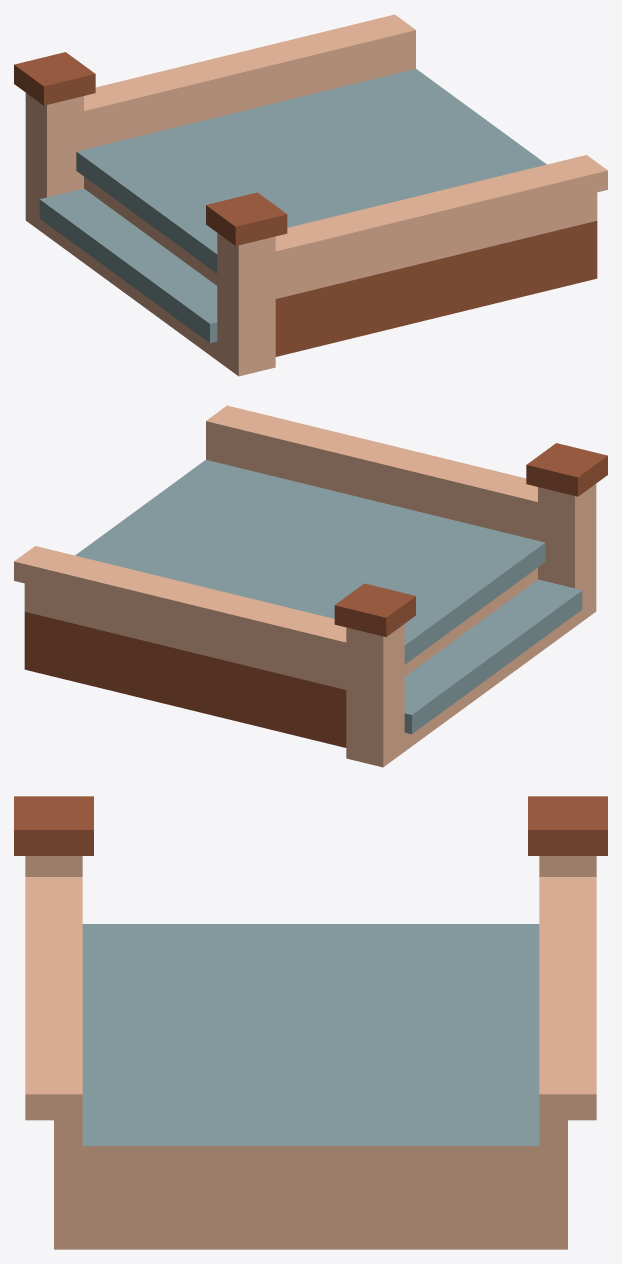
File: bridge_side_wood.glb
3 renders of one model, top to bottom at view 1: azimuth 30°, elevation 25°; view 2: azimuth 150°, elevation 25°; view 3: azimuth 270°, elevation 25°, orthographic. The views are drawn at different scales.
Parts seen in each view (by area): view 1: bridge_side_wood; view 2: bridge_side_wood; view 3: bridge_side_wood.
Boxes of the visible parts, x1,y1,x2,y2 form: bridge_side_wood: (14,14,607,376); bridge_side_wood: (14,405,607,767); bridge_side_wood: (14,796,607,1249).
Bounding box in the file's own units: 1.02 × 0.4 × 1.04.
